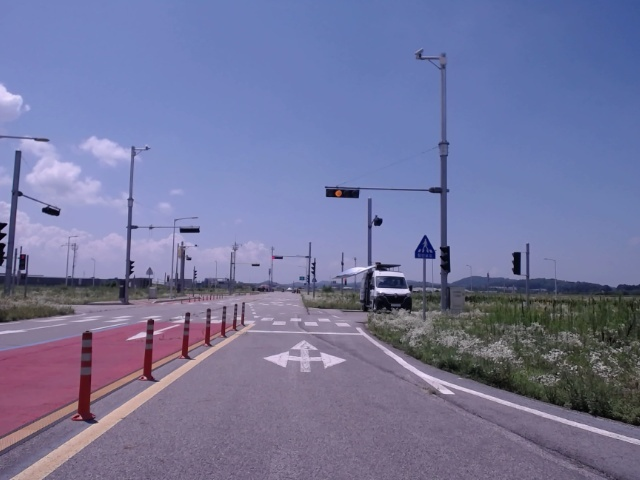orange_4: (325, 187, 359, 199)
